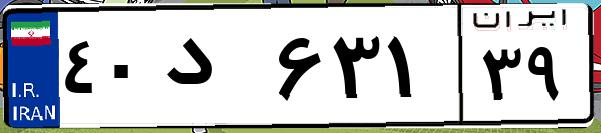0: (110, 28, 158, 98)
1: (385, 28, 445, 110)
3: (330, 28, 385, 110), (475, 38, 525, 113)
4: (57, 26, 110, 100)
6: (270, 28, 330, 110)
9: (525, 38, 570, 115)
د: (158, 20, 270, 120)
